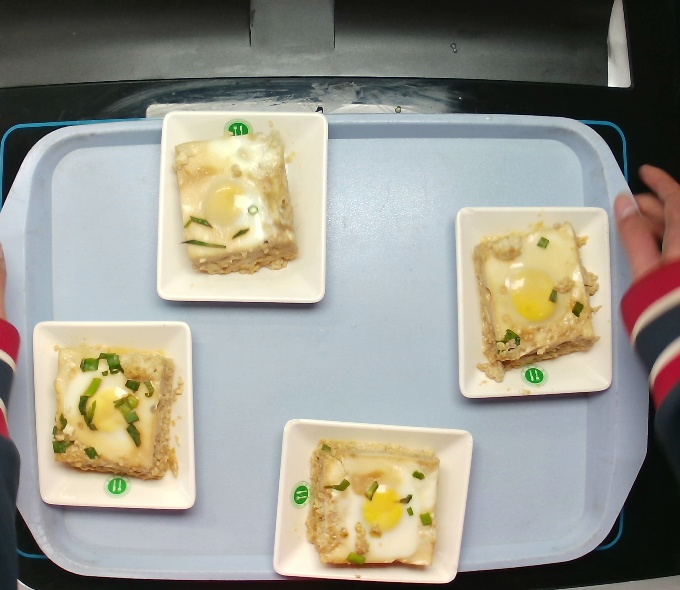wcq-RouMoZhengDan: (469, 203, 607, 391), (42, 328, 183, 508), (295, 425, 445, 582), (168, 123, 303, 297)
